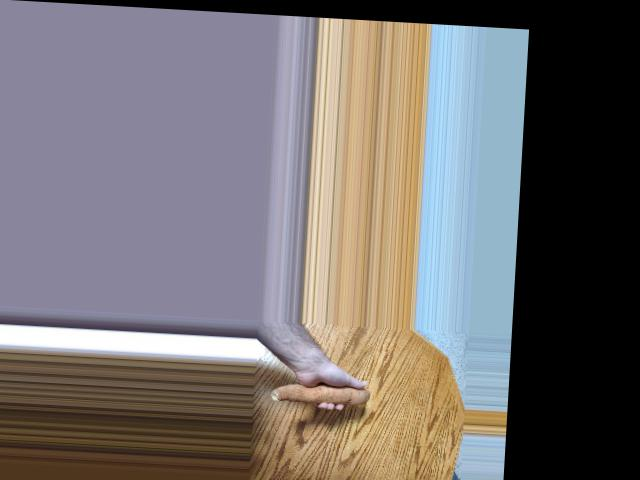sweet_potato: (269, 371, 372, 407)
